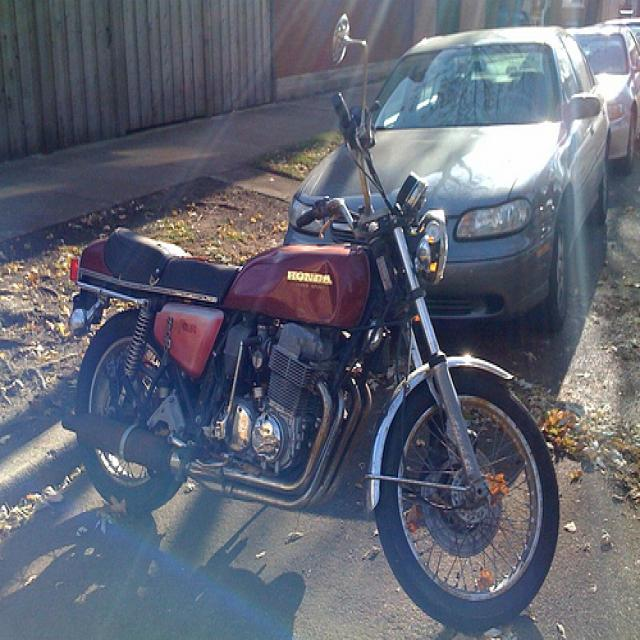motor: (62, 14, 564, 630)
